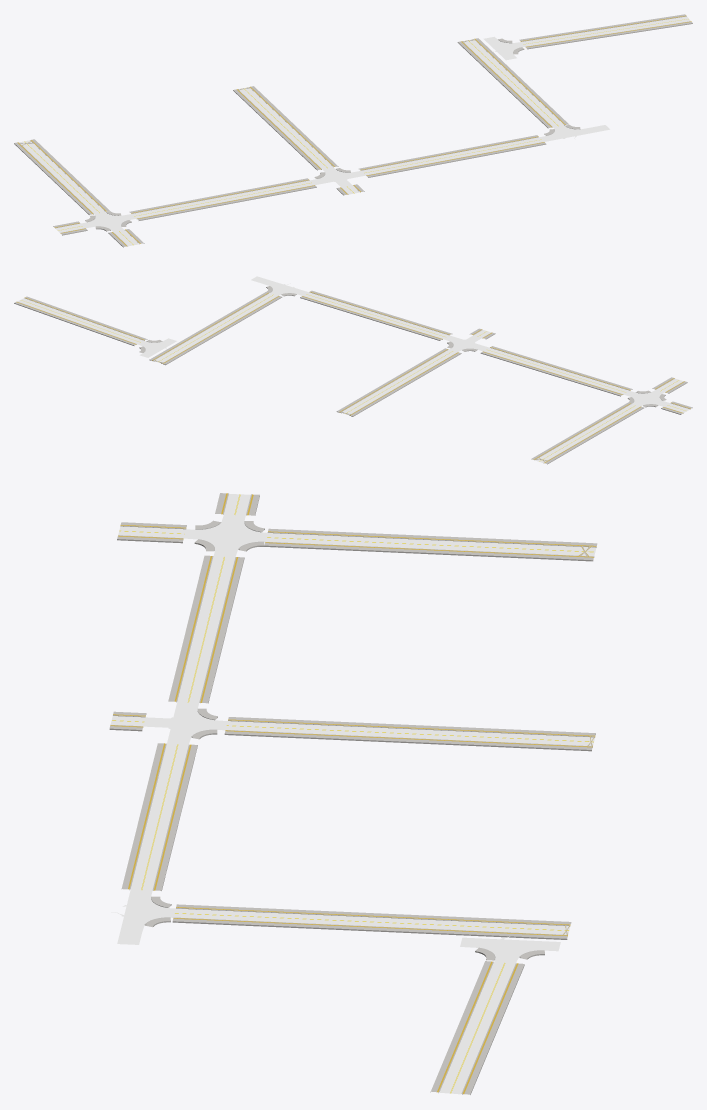
File: roads_-3_-3.gltf
3 views of the same model, one above another, from view 1: azimuth 30°, elevation 25°; view 2: azimuth 150°, elevation 25°; view 3: azimuth 270°, elevation 25° (orthographic). The views are drawn at different scales.
Visible parts, largest first — view 1: roads_-3_-3_SH_wet_asphalt, roads_-3_-3_SH_sidewalk, roads_-3_-3_Road_Tactile_Strip, roads_-3_-3_SH_kerb, roads_-3_-3_SH_road_marking_white, roads_-3_-3_SH_road_marking_yellow; view 2: roads_-3_-3_SH_wet_asphalt, roads_-3_-3_SH_sidewalk, roads_-3_-3_Road_Tactile_Strip, roads_-3_-3_SH_kerb, roads_-3_-3_SH_road_marking_yellow, roads_-3_-3_SH_road_marking_white; view 3: roads_-3_-3_SH_wet_asphalt, roads_-3_-3_SH_sidewalk, roads_-3_-3_Road_Tactile_Strip, roads_-3_-3_SH_kerb, roads_-3_-3_SH_road_marking_white, roads_-3_-3_SH_road_marking_yellow.
Part boxes in pixels (bbox=[...]): roads_-3_-3_SH_wet_asphalt: bbox=[19, 16, 690, 245]; roads_-3_-3_SH_sidewalk: bbox=[14, 14, 692, 247]; roads_-3_-3_Road_Tactile_Strip: bbox=[17, 15, 691, 246]; roads_-3_-3_SH_kerb: bbox=[18, 16, 690, 246]; roads_-3_-3_SH_road_marking_white: bbox=[19, 16, 685, 245]; roads_-3_-3_SH_road_marking_yellow: bbox=[24, 19, 688, 245]; roads_-3_-3_SH_wet_asphalt: bbox=[17, 276, 689, 462]; roads_-3_-3_SH_sidewalk: bbox=[14, 286, 692, 464]; roads_-3_-3_Road_Tactile_Strip: bbox=[16, 291, 690, 463]; roads_-3_-3_SH_kerb: bbox=[17, 286, 690, 463]; roads_-3_-3_SH_road_marking_yellow: bbox=[21, 294, 685, 461]; roads_-3_-3_SH_road_marking_white: bbox=[24, 283, 689, 462]; roads_-3_-3_SH_wet_asphalt: bbox=[110, 494, 596, 1094]; roads_-3_-3_SH_sidewalk: bbox=[109, 493, 597, 1094]; roads_-3_-3_Road_Tactile_Strip: bbox=[110, 493, 596, 1094]; roads_-3_-3_SH_kerb: bbox=[110, 493, 596, 1094]; roads_-3_-3_SH_road_marking_white: bbox=[111, 494, 595, 1093]; roads_-3_-3_SH_road_marking_yellow: bbox=[112, 494, 593, 1093].
Size of what is drawn, in the model's own units: 517 by 0.506 by 177.
